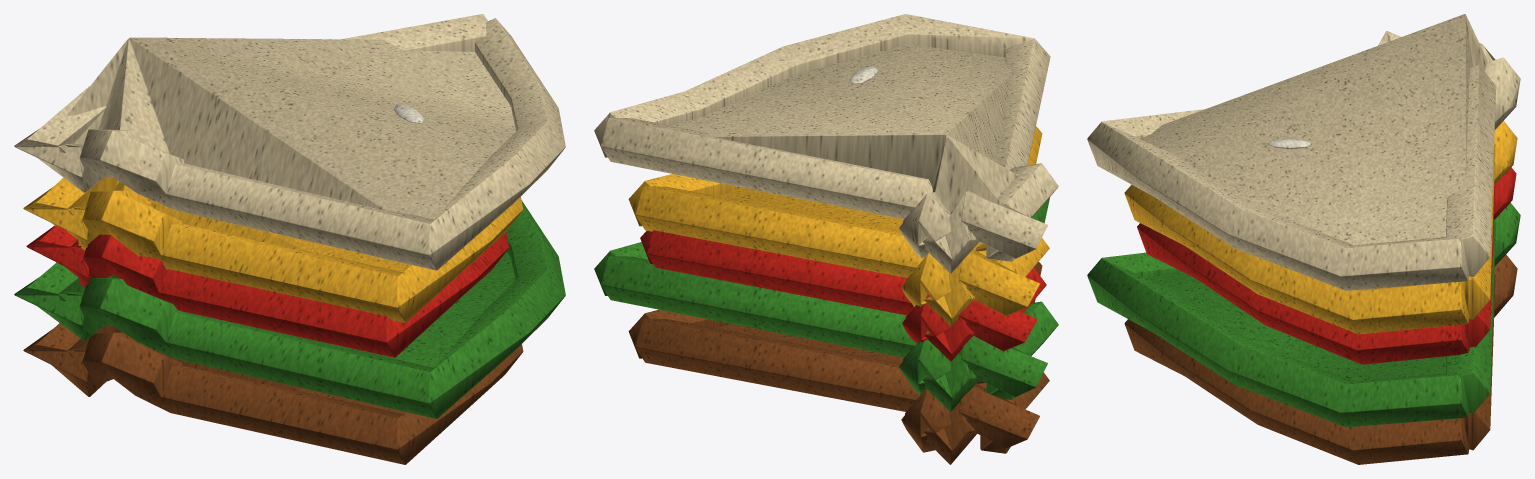
Rendered from food-09-residue.glb.
3 renders of one model, left to right at view 1: azimuth 30°, elevation 25°; view 2: azimuth 150°, elevation 25°; view 3: azimuth 270°, elevation 25°, orthographic. The views are drawn at different scales.
Parts seen in each view (by area): view 1: Food; view 2: Food; view 3: Food.
Part boxes in pixels (<box>): Food: <box>14,14,565,464</box>; Food: <box>594,14,1058,464</box>; Food: <box>1087,14,1520,464</box>.
Bounding box in the file's own units: 0.3943 × 0.2626 × 0.3312.
1 material, 1 textured.
